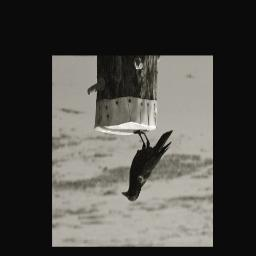Crow: (121, 126, 174, 204)
